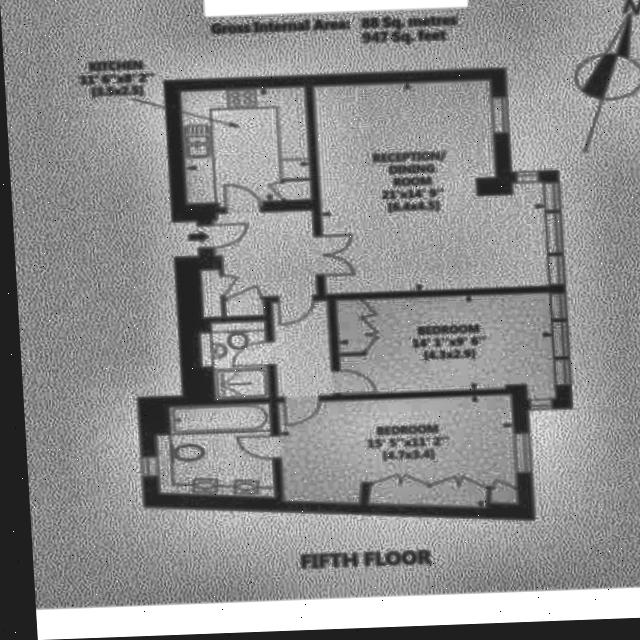room: (314, 78, 548, 295), (278, 395, 519, 512), (337, 293, 553, 407), (180, 85, 310, 207), (198, 209, 317, 318), (154, 403, 273, 502), (273, 300, 331, 397), (199, 321, 269, 401)
